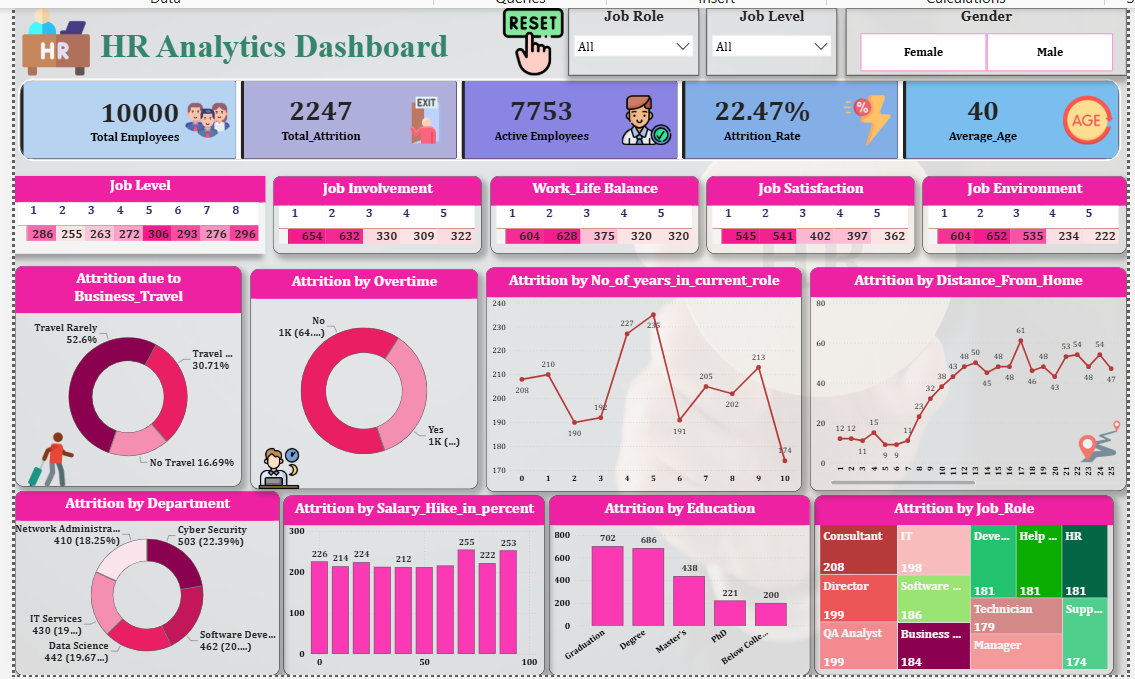

Layout of this report page (visuals, bound fields, positions):
{"tool":"powerbi","page":{"name":"Page 1","canvas":[2000,1200],"ordinal":0},"visuals":[{"type":"cardVisual","fields":{"Data":["CountNonNull(HR_Attrition_dataset.Employee_ID)","Employees.Attrition_YES","Employees.Attrition_NO","Employees.Attrition_Rate","Employees.Average_Age"]},"box":[0,121.4,1999.7,159.2],"z":0},{"type":"donutChart","title":"Attrition by Department","fields":{"Category":["Employees.Department"],"Y":["Employees.Attrition_YES"]},"box":[0,868,476,332],"z":1000},{"type":"treemap","title":"Attrition by Job_Role","fields":{"Group":["Employees.Job_Role"],"Values":["Employees.Attrition_YES"]},"box":[1438.4,877,538,323],"z":2000},{"type":"lineChart","title":"Attrition by Distance_From_Home","fields":{"Category":["Employees.Distance_From_Home"],"Y":["Employees.Attrition_YES"]},"box":[1430.3,466.9,569.4,402.1],"z":3000},{"type":"donutChart","title":"Attrition by Overtime","fields":{"Category":["Employees.Overtime"],"Y":["Employees.Attrition_YES"]},"box":[422.8,469.6,409,396],"z":4000},{"type":"pivotTable","title":"Job Satisfaction","fields":{"Columns":["Employees.Job_Satisfaction"],"Values":["Employees.Attrition_YES"]},"box":[1243.4,302.3,375.1,140.3],"z":5000},{"type":"pivotTable","title":"Job Environment","fields":{"Values":["Employees.Attrition_YES"],"Columns":["Employees.Environment_Satisfaction"]},"box":[1632.7,302.3,367,140.3],"z":6000},{"type":"pivotTable","title":"Work_Life Balance","fields":{"Values":["Employees.Attrition_YES"],"Columns":["Employees.Work_life_balance"]},"box":[854.1,302.3,375.1,140.3],"z":7000},{"type":"donutChart","title":"Attrition due to Business_Travel","fields":{"Y":["Employees.Attrition_YES"],"Category":["Employees.Business_Travel"]},"box":[0,464.2,407.5,396.7],"z":8000},{"type":"lineChart","title":"Attrition by No_of_years_in_current_role","fields":{"Category":["Employees.No_of_years_in_current_role"],"Y":["Employees.Attrition_YES"]},"box":[847,466.9,568,403],"z":9000},{"type":"clusteredColumnChart","title":"Attrition by Salary_Hike_in_percent ","fields":{"Category":["Employees.Salary_Hike_in_percent (bins)"],"Y":["Employees.Attrition_YES"]},"box":[483.5,876,470,324],"z":10000},{"type":"clusteredColumnChart","title":"Attrition by Education","fields":{"Y":["Employees.Attrition_YES"],"Category":["Employees.Education"]},"box":[960.9,876,470,324],"z":11000},{"type":"pivotTable","title":"Job Involvement","fields":{"Values":["Employees.Attrition_YES"],"Columns":["Employees.Job_Involvement"]},"box":[464.9,302.3,375.1,140.3],"z":12000},{"type":"pivotTable","title":"Job Level","fields":{"Values":["Employees.Attrition_YES"],"Columns":["Employees.Job_Level"]},"box":[0,302.3,450.7,140.3],"z":13000},{"type":"textbox","box":[148.4,29.7,982.3,91.8],"z":14000},{"type":"image","box":[0,0,148.4,121.4],"z":15000},{"type":"image","box":[1902.6,742.1,97.2,75.6],"z":16000},{"type":"image","box":[437.2,779.9,75.6,97.2],"z":17000},{"type":"image","box":[0,763.7,129.5,97.2],"z":18000},{"type":"slicer","title":"Gender","fields":{"Values":["Employees.Gender"]},"box":[1495.1,0,504.7,121.4],"z":19000},{"type":"slicer","title":"Job Level","fields":{"Values":["Employees.Job_Level"]},"box":[1244.1,0,234.8,121.4],"z":20000},{"type":"slicer","title":"Job Role","fields":{"Values":["Employees.Job_Role"]},"box":[995.8,0,234.8,121.4],"z":21000},{"type":"image","box":[823.1,0,218.6,121.4],"z":22000}]}

Visuals, with their boxes in screenshot pixels (x1, y1, x2, y2):
cardVisual - CountNonNull(HR_Attrition_dataset.Employee_ID) x Employees.Attrition_YES: [9, 71, 1126, 160]
"Attrition by Department" donutChart: [9, 488, 275, 673]
"Attrition by Job_Role" treemap: [812, 493, 1113, 673]
"Attrition by Distance_From_Home" lineChart: [808, 264, 1126, 488]
"Attrition by Overtime" donutChart: [245, 265, 474, 487]
"Job Satisfaction" pivotTable: [704, 172, 913, 250]
"Job Environment" pivotTable: [921, 172, 1126, 250]
"Work_Life Balance" pivotTable: [486, 172, 696, 250]
"Attrition due to Business_Travel" donutChart: [9, 262, 237, 484]
"Attrition by No_of_years_in_current_role" lineChart: [482, 264, 799, 489]
"Attrition by Salary_Hike_in_percent " clusteredColumnChart: [279, 492, 542, 673]
"Attrition by Education" clusteredColumnChart: [546, 492, 808, 673]
"Job Involvement" pivotTable: [269, 172, 478, 250]
"Job Level" pivotTable: [9, 172, 261, 250]
textbox: [92, 20, 641, 71]
image: [9, 3, 92, 71]
image: [1072, 418, 1126, 460]
image: [253, 439, 295, 493]
image: [9, 430, 81, 484]
"Gender" slicer: [844, 3, 1126, 71]
"Job Level" slicer: [704, 3, 835, 71]
"Job Role" slicer: [565, 3, 696, 71]
image: [469, 3, 591, 71]
